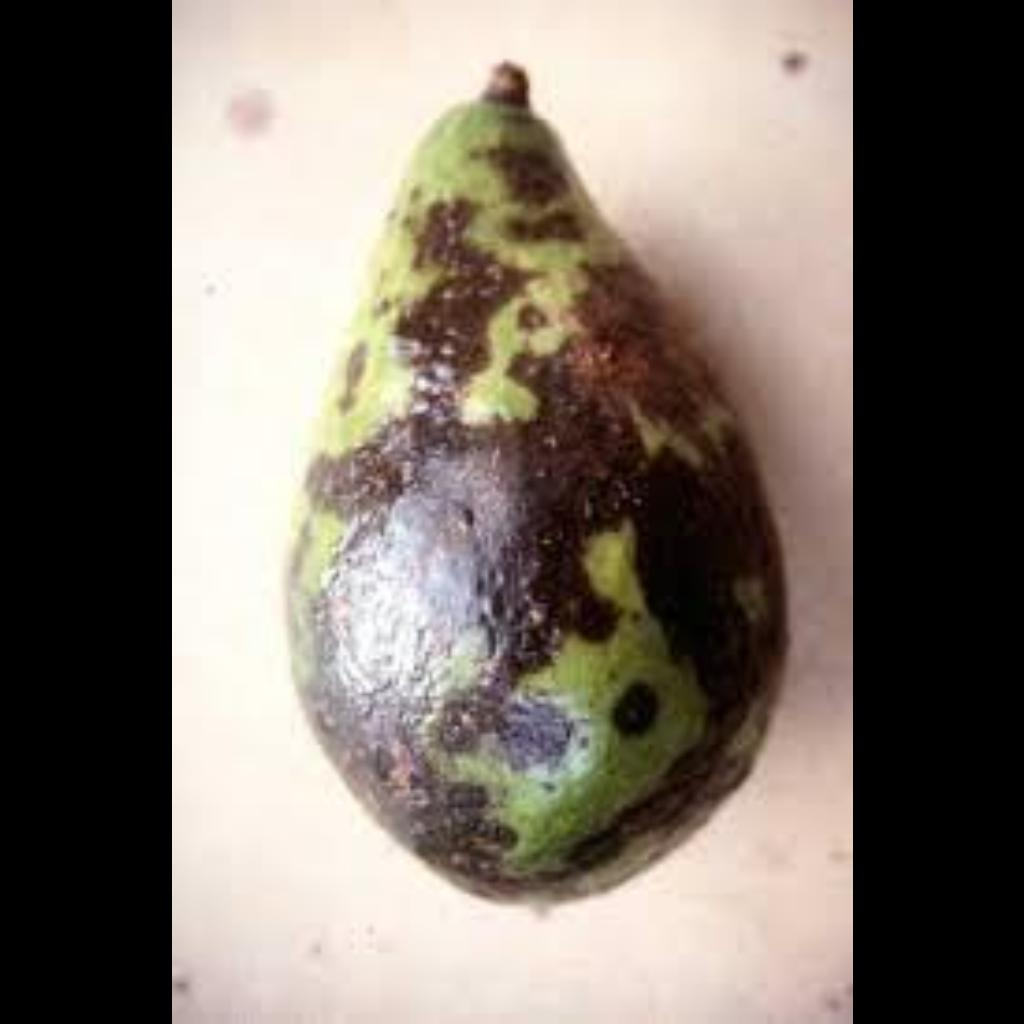antracnosis_fruto: (322, 224, 734, 878)
